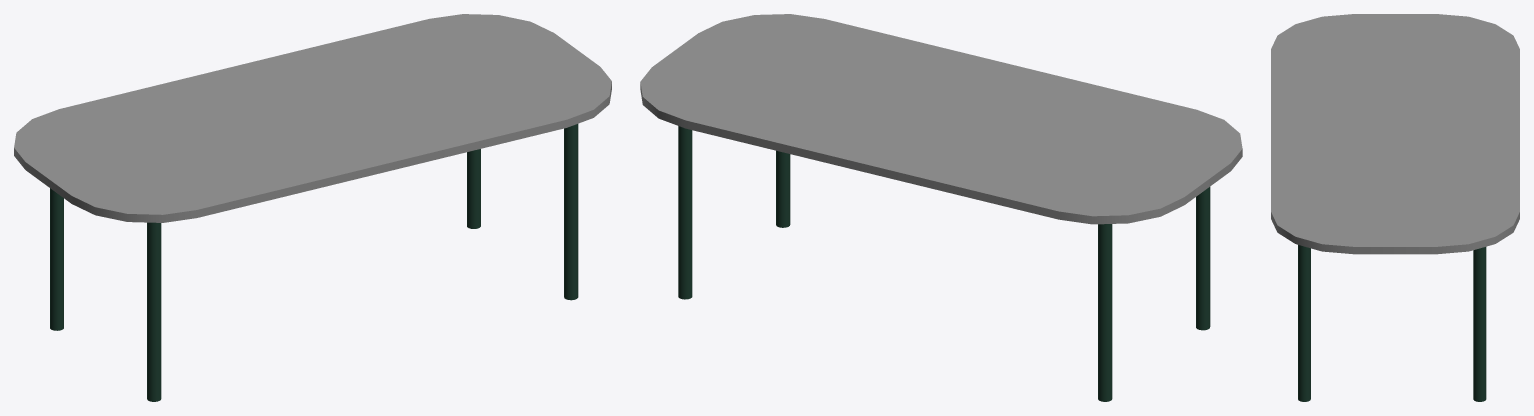
The model's file is tables014.glb.
The picture shows the model from 3 angles, left to right: view 1: azimuth 30°, elevation 25°; view 2: azimuth 150°, elevation 25°; view 3: azimuth 270°, elevation 25°; orthographic projection. The views are drawn at different scales.
Parts seen in each view (by area): view 1: tables.014; view 2: tables.014; view 3: tables.014.
Part boxes in pixels (x1=…): tables.014: x1=14, y1=14, x2=611, y2=401; tables.014: x1=640, y1=14, x2=1242, y2=401; tables.014: x1=1271, y1=14, x2=1519, y2=401.
Bounding box in the file's own units: 2.22 × 0.787 × 1.
Materials: 1 (1 with a texture image).
